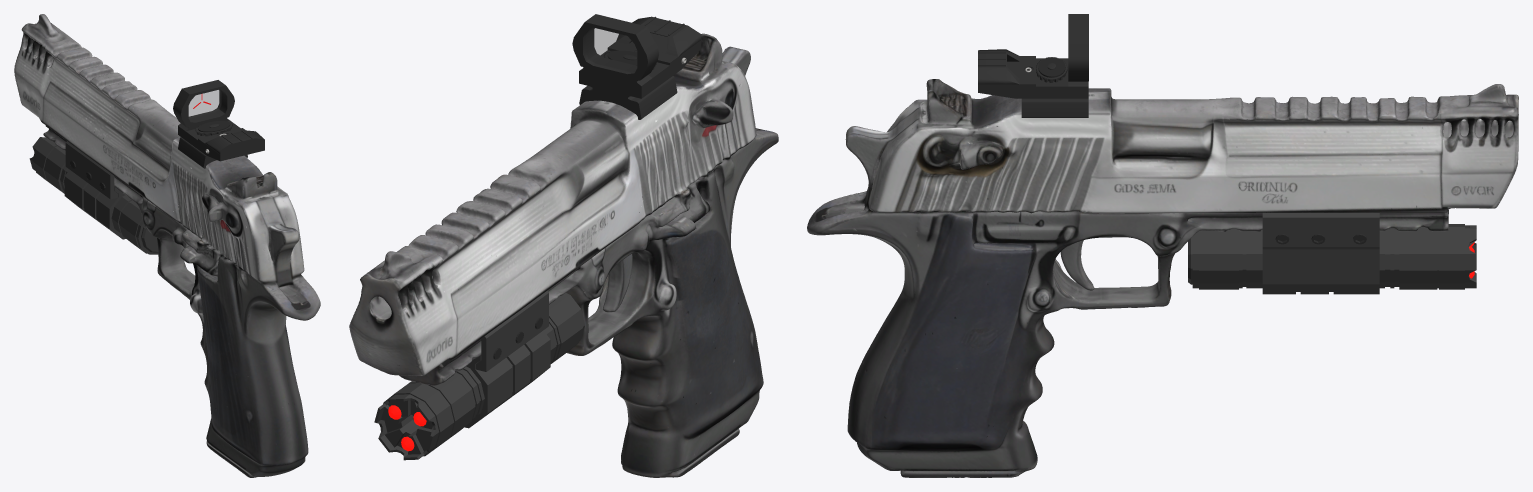
The model's file is silverqueen.gltf.
3 views of the same model, side by side, from view 1: azimuth 30°, elevation 25°; view 2: azimuth 150°, elevation 25°; view 3: azimuth 270°, elevation 25° (orthographic). The views are drawn at different scales.
Visible parts, largest first — view 1: Frame, Body_0, Body, 1_Body_0, Frame2, 2_Body_0, Screen, Base; view 2: Frame, Body_0, Body, 1_Body_0, Frame2, 2_Body_0, Screen, Base; view 3: Frame, Body_0, 1_Body_0, Body, Frame2, Base.
Part boxes in pixels (x1,y1,x2,y2): Frame: (14, 14, 320, 477); Body_0: (29, 137, 158, 254); Body: (178, 116, 264, 161); 1_Body_0: (64, 170, 125, 239); Frame2: (173, 80, 234, 127); 2_Body_0: (65, 141, 117, 199); Screen: (189, 90, 221, 118); Base: (178, 137, 247, 168); Frame: (349, 33, 778, 477); Body_0: (374, 293, 584, 460); Body: (579, 16, 701, 98); 1_Body_0: (465, 330, 550, 428); Frame2: (572, 14, 658, 80); 2_Body_0: (476, 290, 548, 371); Screen: (586, 28, 636, 71); Base: (579, 76, 677, 119); Frame: (807, 79, 1518, 477); Body_0: (1188, 224, 1476, 289); 1_Body_0: (1262, 212, 1379, 294); Body: (978, 49, 1088, 98); Frame2: (1068, 14, 1088, 81); Base: (1021, 98, 1088, 117).
Bounding box in the file's own units: 0.0326 × 0.1368 × 0.2005.
Materials: 9 (2 with a texture image).
